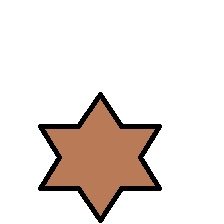star: (37, 92, 158, 220)
